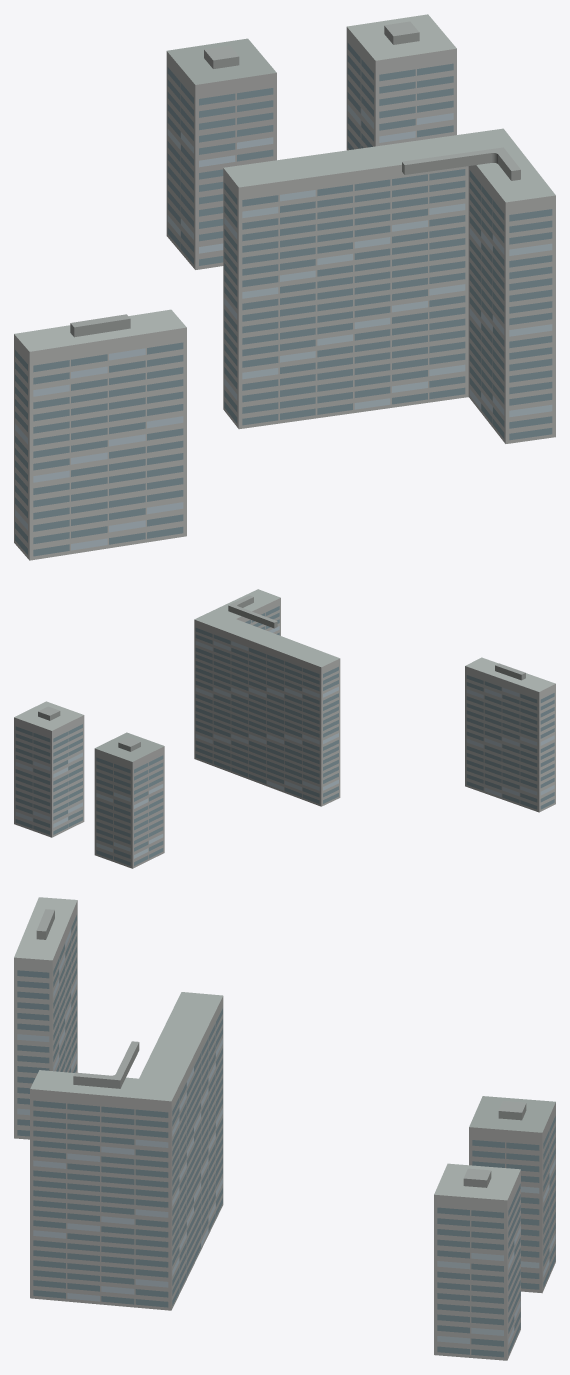
Rendered from apt-a15009503.glb.
3 views of the same model, one above another, from view 1: azimuth 30°, elevation 25°; view 2: azimuth 150°, elevation 25°; view 3: azimuth 270°, elevation 25° (orthographic). The views are drawn at different scales.
Parts seen in each view (by area): view 1: apt-a15009503; view 2: apt-a15009503; view 3: apt-a15009503.
Part boxes in pixels (x1,y1,x2,y2): apt-a15009503: (14,14,555,560); apt-a15009503: (14,589,555,868); apt-a15009503: (14,897,555,1360).
Size of the model in its own units: 170 by 61 by 137.
